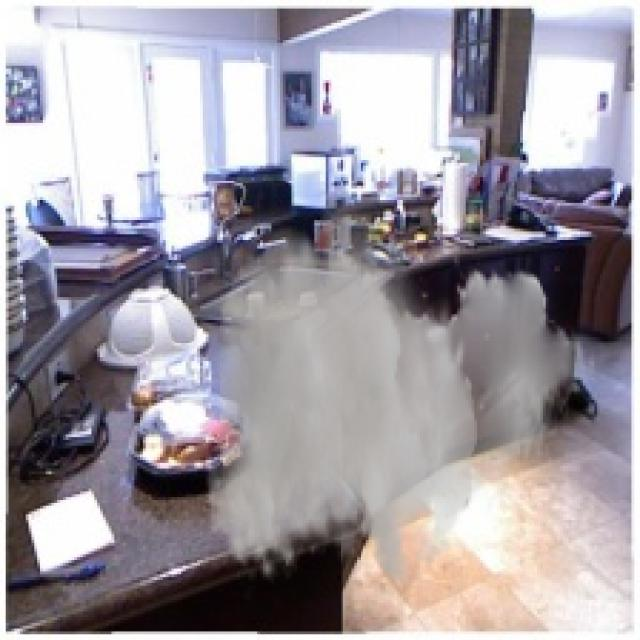smoke: (206, 183, 597, 586)
